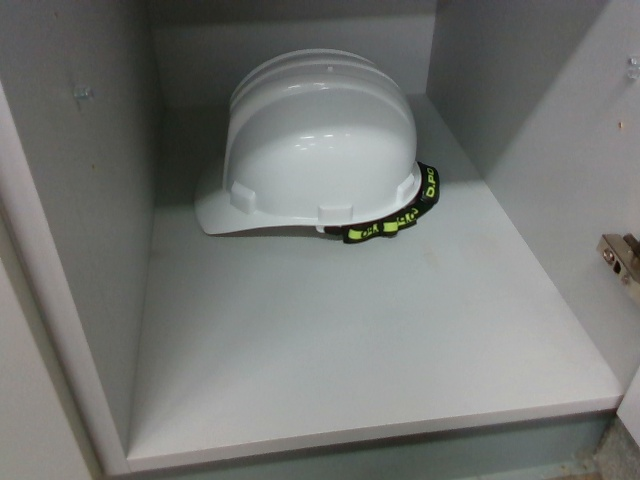helmet: (186, 38, 445, 248)
